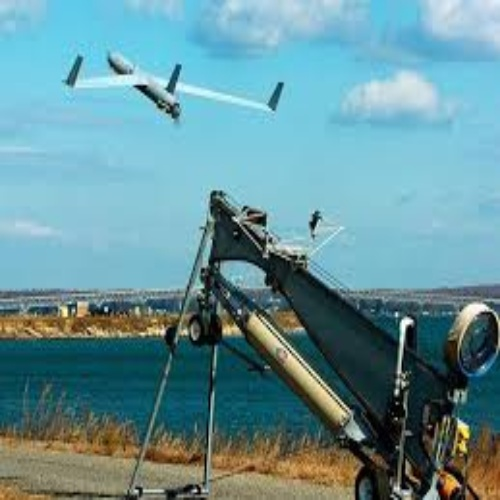uav: (65, 40, 284, 126)
